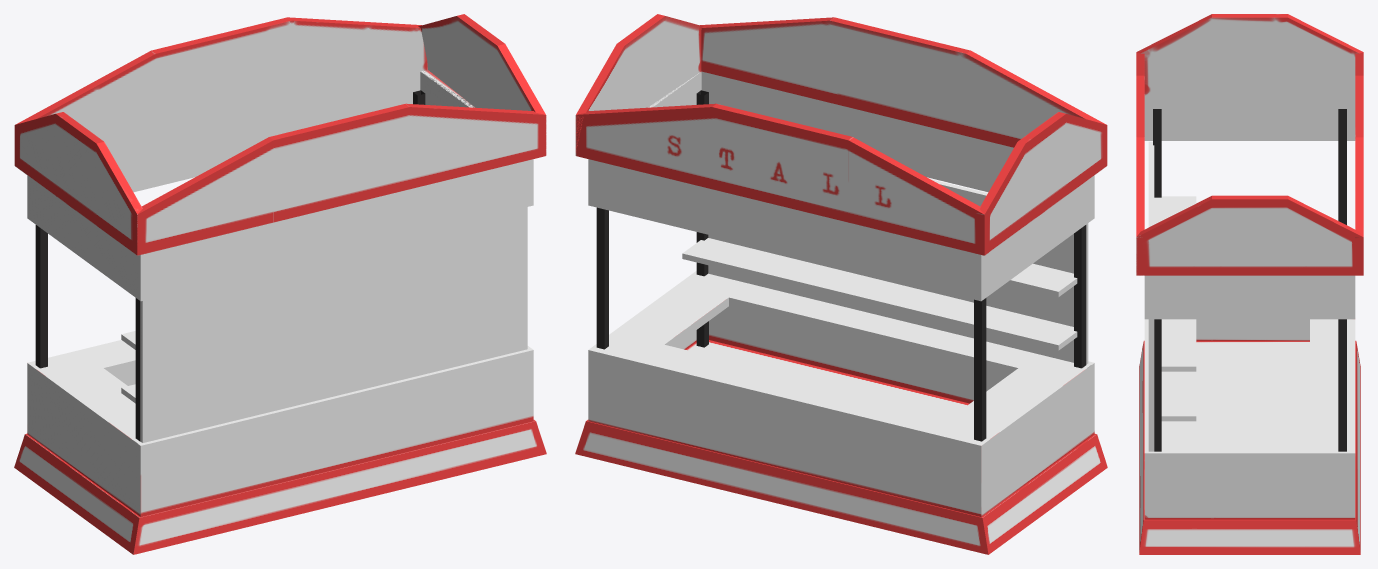
The model's file is stall.fbx.
3 renders of one model, left to right at view 1: azimuth 30°, elevation 25°; view 2: azimuth 150°, elevation 25°; view 3: azimuth 270°, elevation 25°, orthographic. The views are drawn at different scales.
Visible parts, largest first — view 1: stall; view 2: stall; view 3: stall.
Boxes of the visible parts, box(x1,y1,x2,y2) form: stall: box(14, 14, 546, 554); stall: box(575, 14, 1107, 554); stall: box(1136, 14, 1363, 554).
Size of the model in its own units: 526 by 464 by 270.
Materials: 1 (1 with a texture image).
